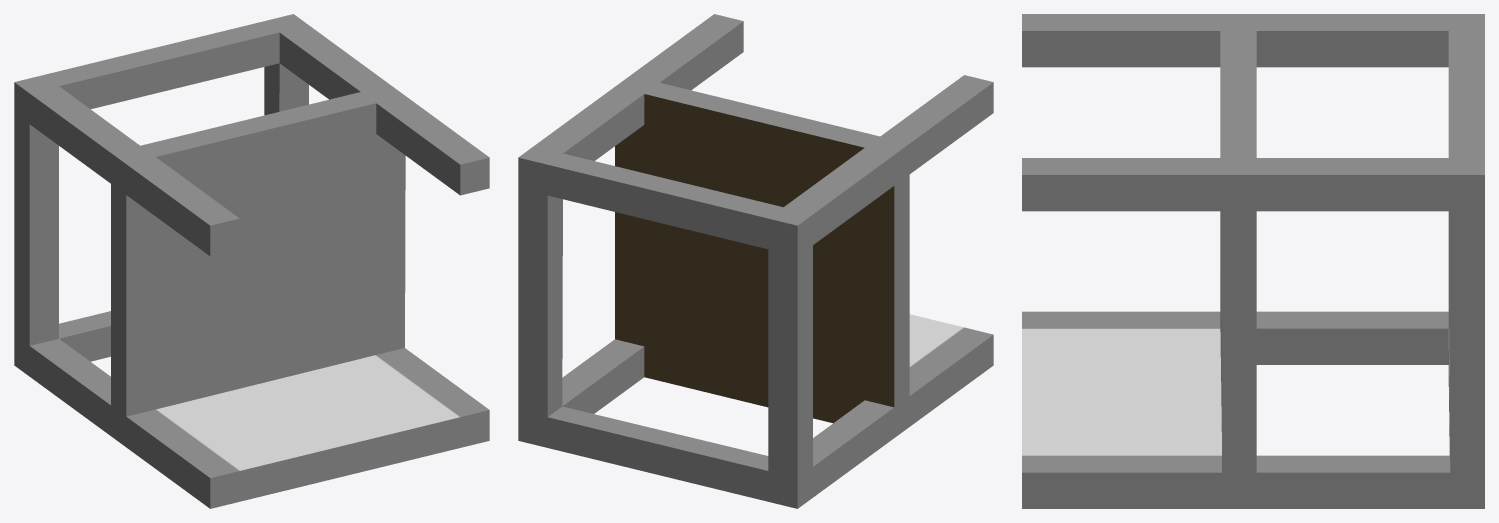
The model's file is construction-building-pallet.obj.
3 views of the same model, side by side, from view 1: azimuth 30°, elevation 25°; view 2: azimuth 150°, elevation 25°; view 3: azimuth 270°, elevation 25° (orthographic). The views are drawn at different scales.
Visible parts, largest first — view 1: construction-building-pallet_Cube.107; view 2: construction-building-pallet_Cube.107; view 3: construction-building-pallet_Cube.107.
Boxes of the visible parts, box(x1,y1,x2,y2) form: construction-building-pallet_Cube.107: box(14, 14, 489, 508); construction-building-pallet_Cube.107: box(518, 14, 993, 508); construction-building-pallet_Cube.107: box(1022, 14, 1484, 508).
Bounding box in the file's own units: 2.99 × 2.9 × 3.64.
